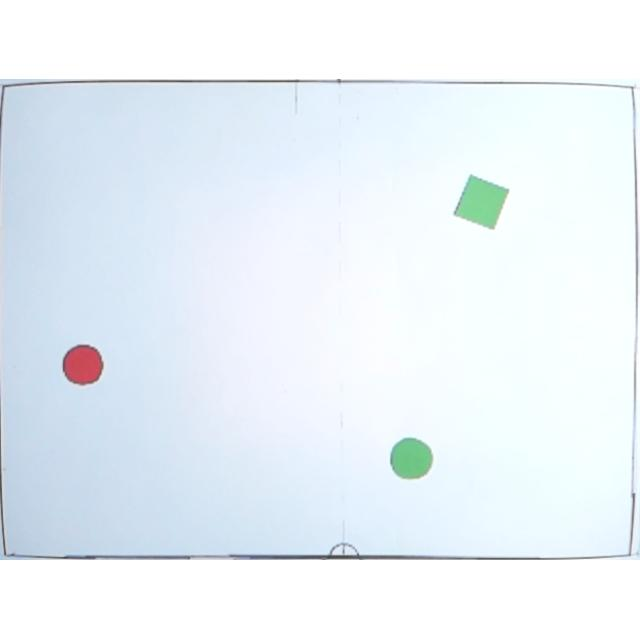greenCircle: (388, 436, 438, 482)
greenSquare: (454, 175, 512, 231)
redCircle: (61, 344, 108, 388)
